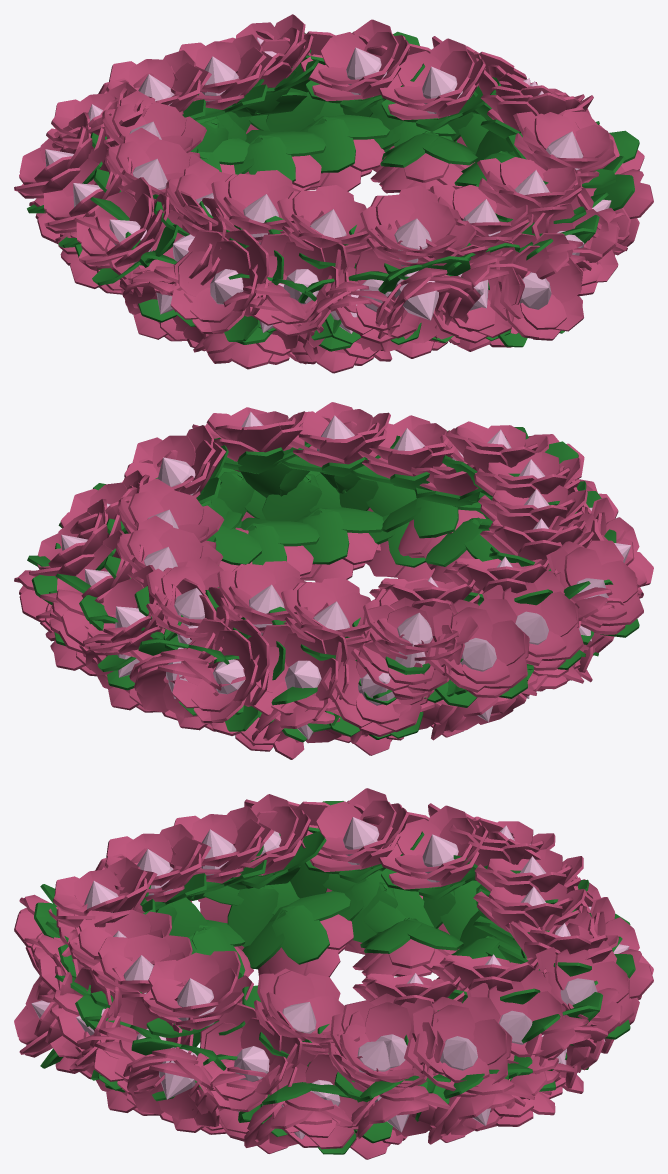
File: flowerRing.fbx
3 views of the same model, one above another, from view 1: azimuth 30°, elevation 25°; view 2: azimuth 150°, elevation 25°; view 3: azimuth 270°, elevation 25° (orthographic).
Visible parts, largest first — view 1: pCube10 polySurface37.023; view 2: pCube10 polySurface37.023; view 3: pCube10 polySurface37.023.
Part boxes in pixels (x1,y1,x2,y2): pCube10 polySurface37.023: (14,14,653,373); pCube10 polySurface37.023: (14,402,653,759); pCube10 polySurface37.023: (14,788,653,1159).
Size of the model in its own units: 314 by 94.03 by 307.
